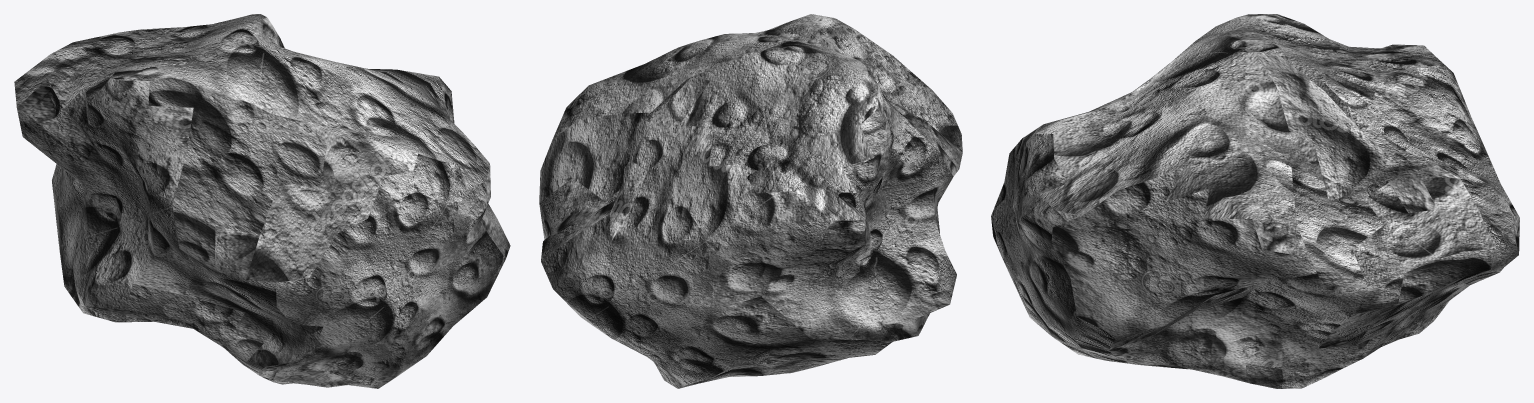
File: asteroide_2.FBX
3 views of the same model, side by side, from view 1: azimuth 30°, elevation 25°; view 2: azimuth 150°, elevation 25°; view 3: azimuth 270°, elevation 25° (orthographic). The views are drawn at different scales.
Visible parts, largest first — view 1: asteroide_1; view 2: asteroide_1; view 3: asteroide_1.
Boxes of the visible parts, <box> form: asteroide_1: <box>14,14,510,388</box>; asteroide_1: <box>539,14,962,388</box>; asteroide_1: <box>991,14,1519,388</box>.
Bounding box in the file's own units: 347 × 277 × 431.
Materials: 1 (1 with a texture image).
